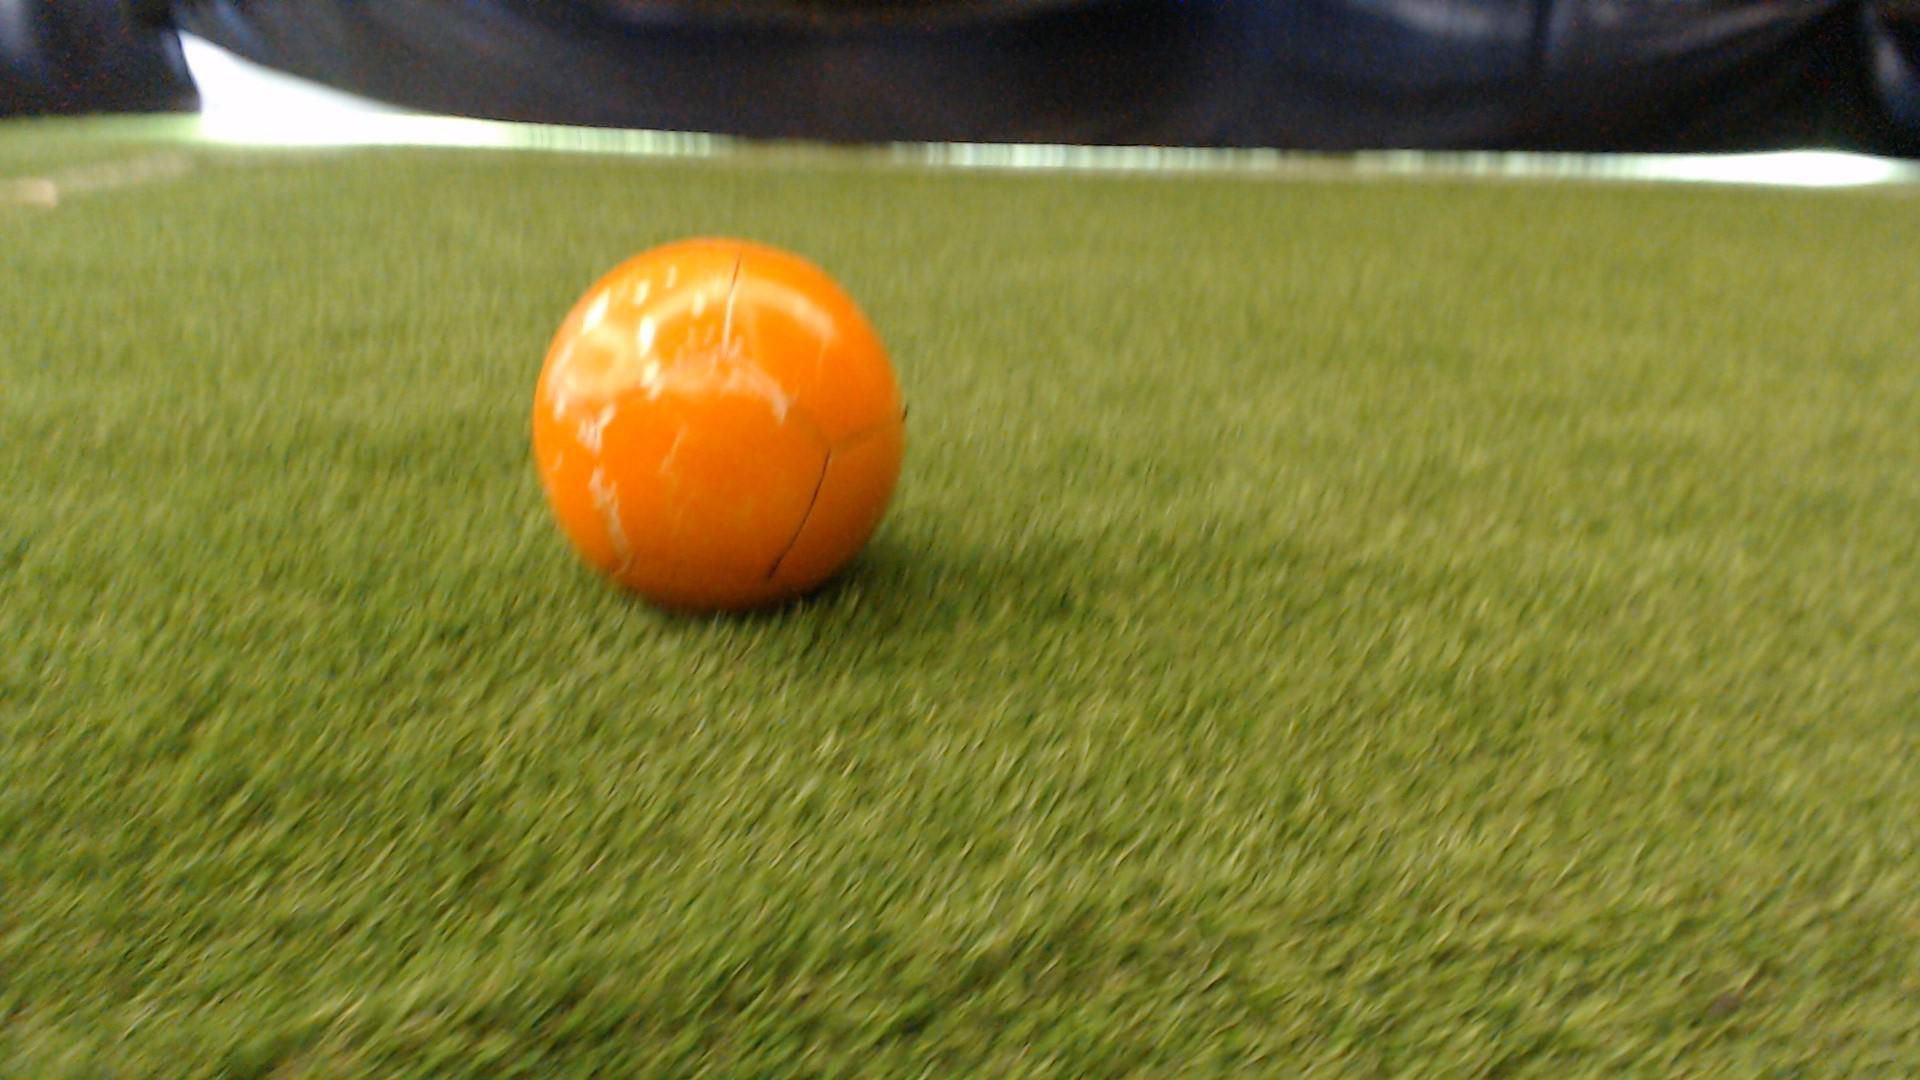bola: (508, 199, 965, 668)
